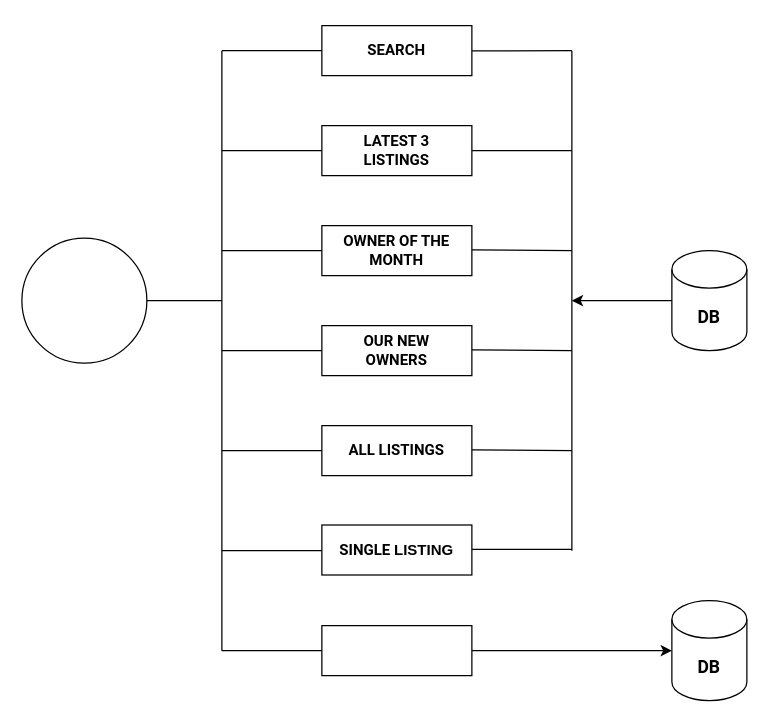
This 769x723 diagram has some shape labels left out. The centre of each missing label's shape, as x and y in pixels:
"CRS" goes at point 84,300.
"REGISTER" goes at point 396,650.
